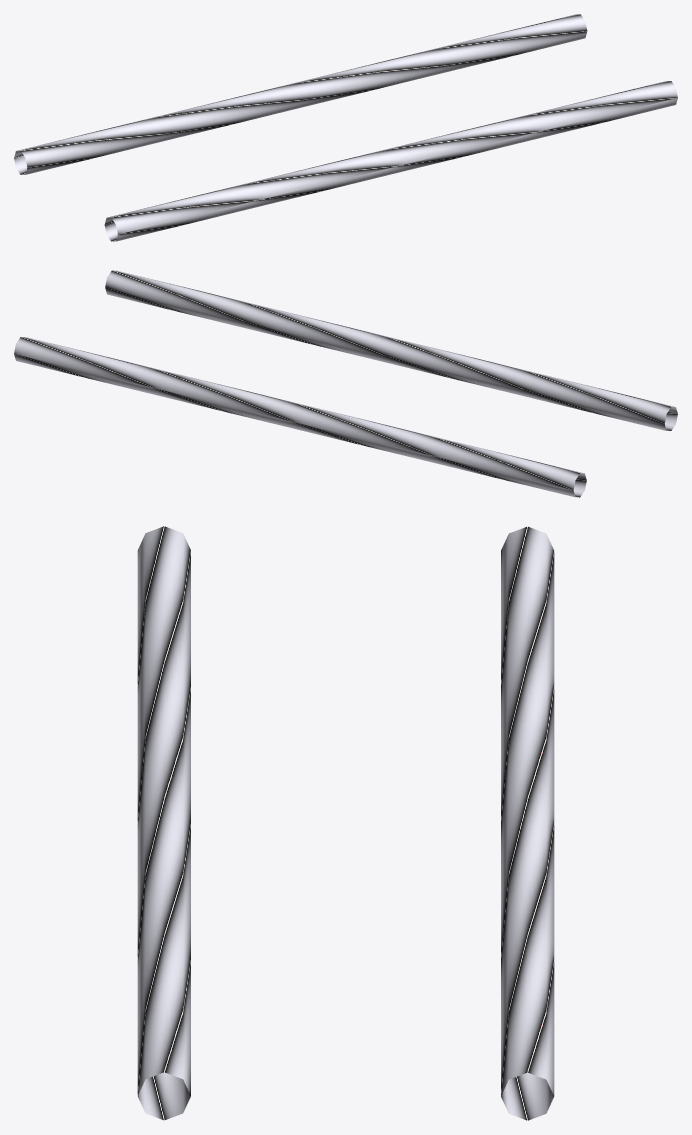
The model's file is SM_Corde1m.FBX.
3 views of the same model, one above another, from view 1: azimuth 30°, elevation 25°; view 2: azimuth 150°, elevation 25°; view 3: azimuth 270°, elevation 25° (orthographic). The views are drawn at different scales.
Visible parts, largest first — view 1: Cylinder003; view 2: Cylinder003; view 3: Cylinder003.
Boxes of the visible parts, <box> form: Cylinder003: <box>14,14,677,241</box>; Cylinder003: <box>14,270,677,497</box>; Cylinder003: <box>137,526,554,1120</box>.
Size of the model in its own units: 100 by 4.12 by 32.23.
